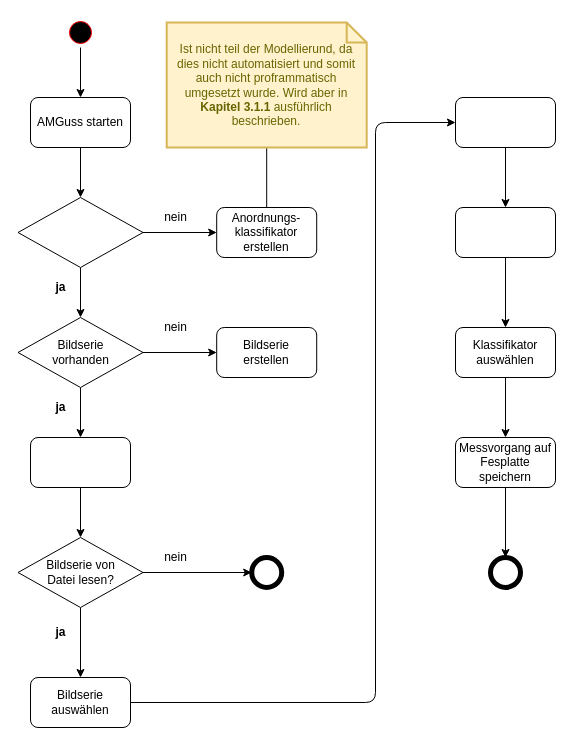
Image size: 573x745. Some labels were removed from this diagram. Here are the shapes that lost their labels. From the top down, the centre of each, then its label:
At (x=505, y=122): "Bildserie laden".
At (x=80, y=232): "Klassifikator vorhanden?".
At (x=505, y=232): "Kalibrierung für Bildserie eigeben".
At (x=80, y=462): "Lamellengraphit-Messung starten".
